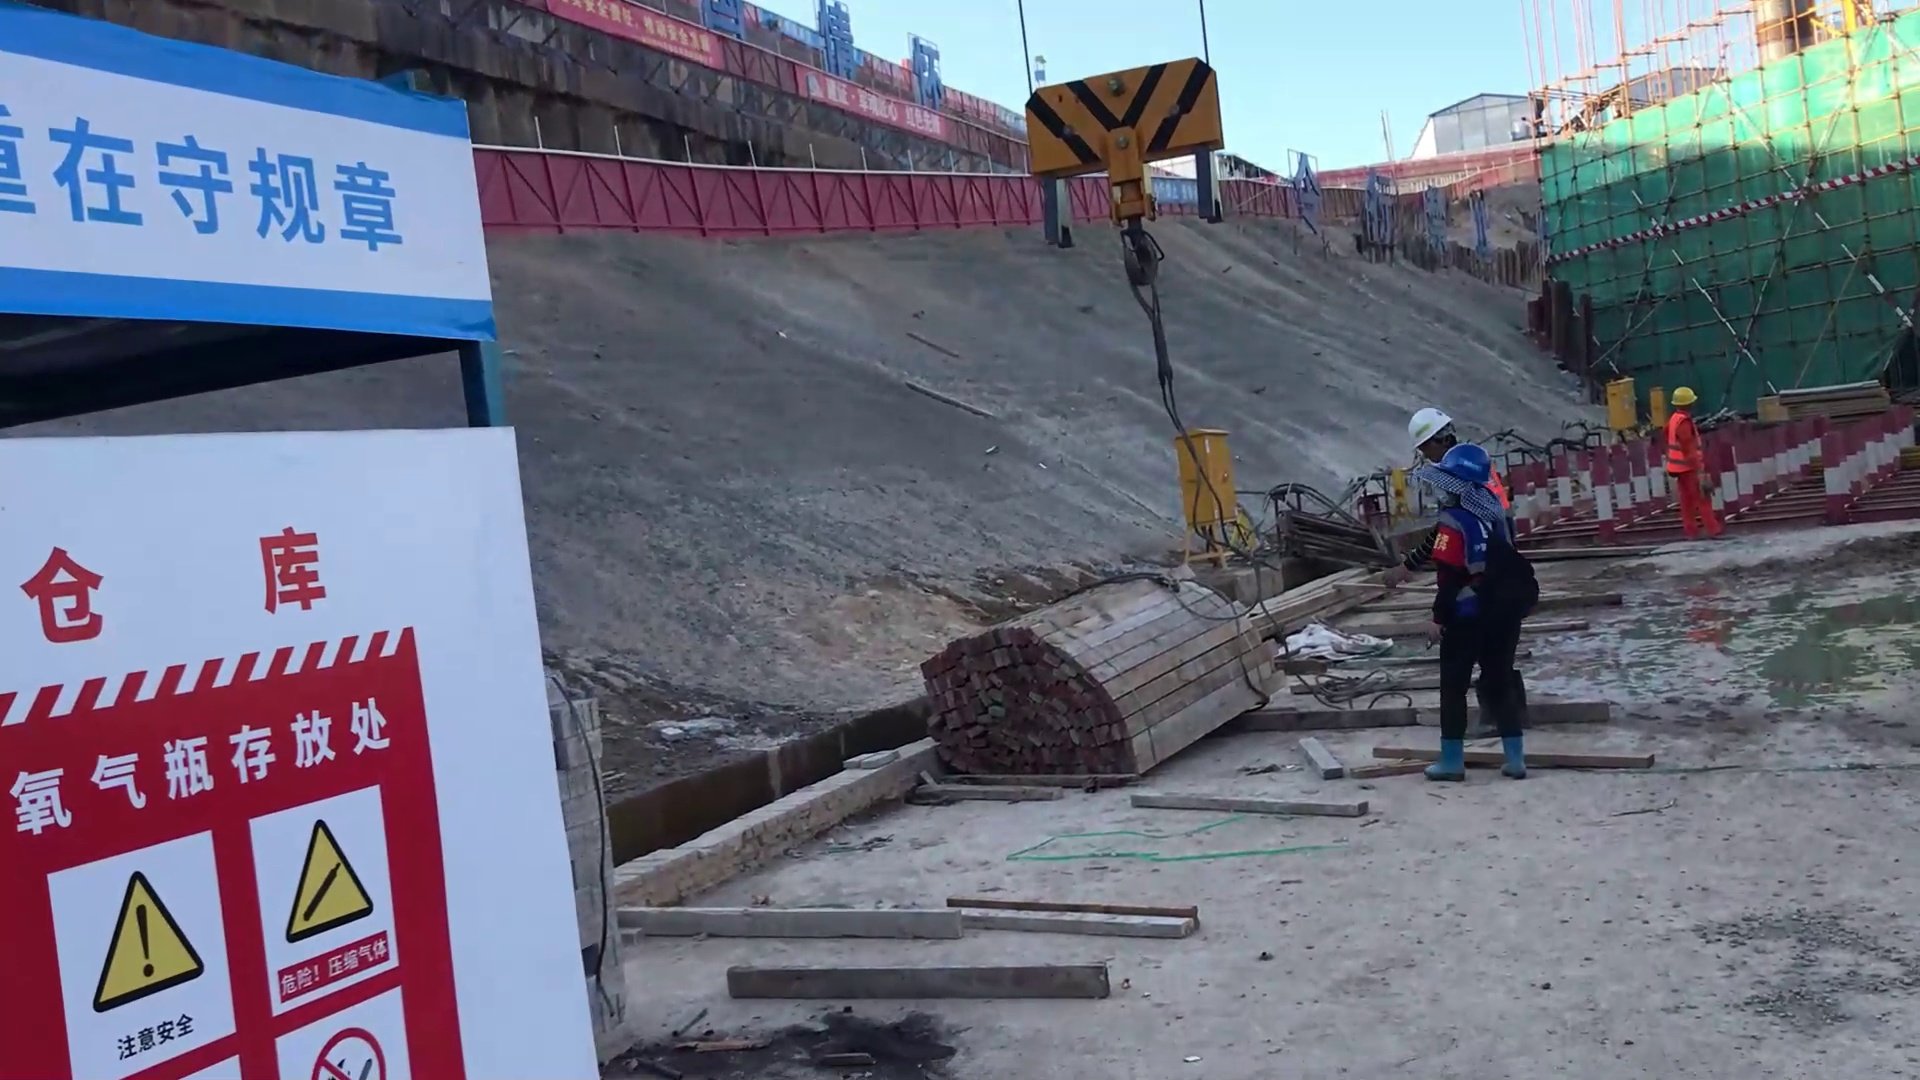brick: (533, 652, 643, 1045)
ebox: (1162, 409, 1252, 546), (1600, 372, 1641, 436)
fence: (478, 141, 1022, 244)
helmet: (1417, 424, 1508, 519), (1385, 394, 1458, 453), (1664, 371, 1703, 410)
hook: (1013, 50, 1236, 260)
person: (1415, 444, 1536, 781), (1663, 385, 1726, 545)
slogan: (7, 68, 519, 348), (17, 770, 434, 1080)
vest: (1664, 412, 1704, 477)
wood: (895, 544, 1312, 811)
